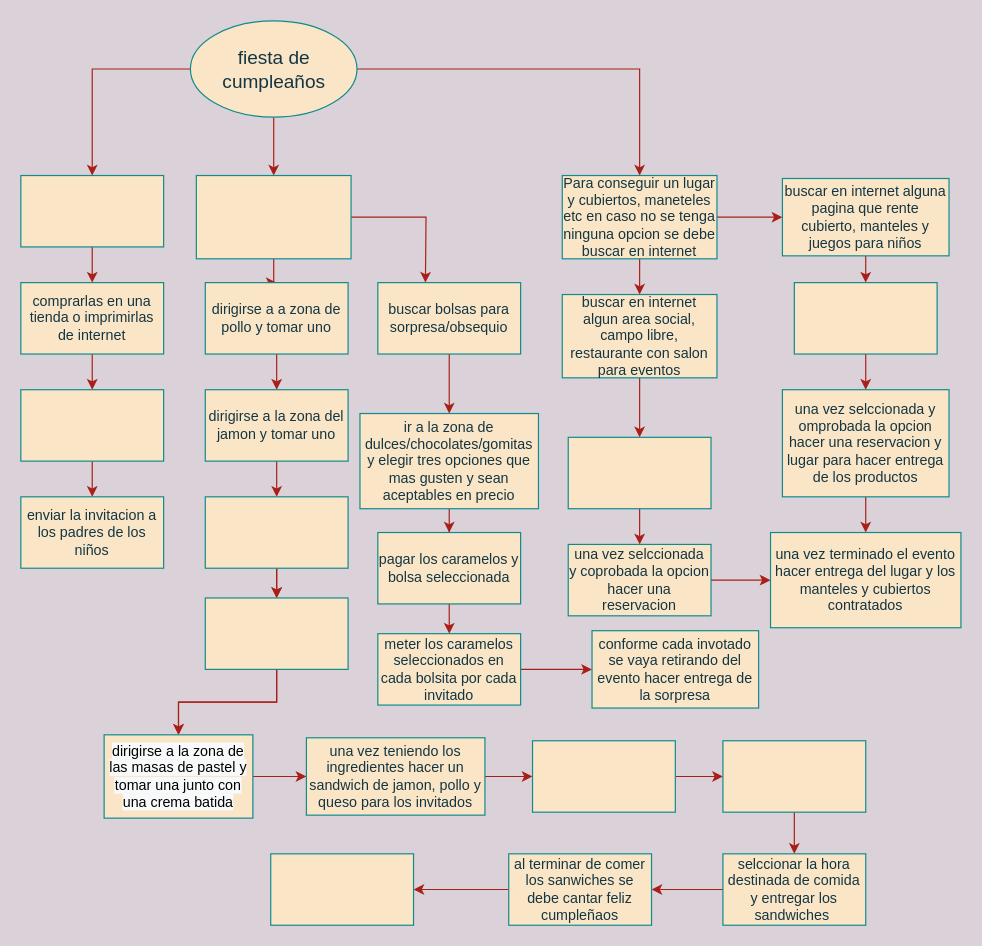
Some shapes in this 982 by 946 pixel diagram are drawn without their labels. The shapes that lost their labels are listed below. From the top down, each one's centre as x and y in pixels, then its label:
At pixel 92 210: "buscar invitaciones en una tienda o internet".
At pixel 273 216: "dirigirse al supermercado a hacer las compras necesarias de la fiesta".
At pixel 865 317: "cotizar precio y disponibilidad".
At pixel 92 425: "colocar la informacion de la fiesta".
At pixel 639 472: "cotizar precios y disponibilidad".
At pixel 276 532: "dirigirse a la zona del queso y tomar uno".
At pixel 276 633: "dirigirse a la zona del pan y comprar un pan sandwich".
At pixel 603 776: "preparar la masa del pastel y agregarle crema batida".
At pixel 794 776: "llevar el pastel y los sandwiches hacia el lugar del evento".
At pixel 342 889: "una vez terminado de cantar hacer entrega del pastel a cada invitado".
